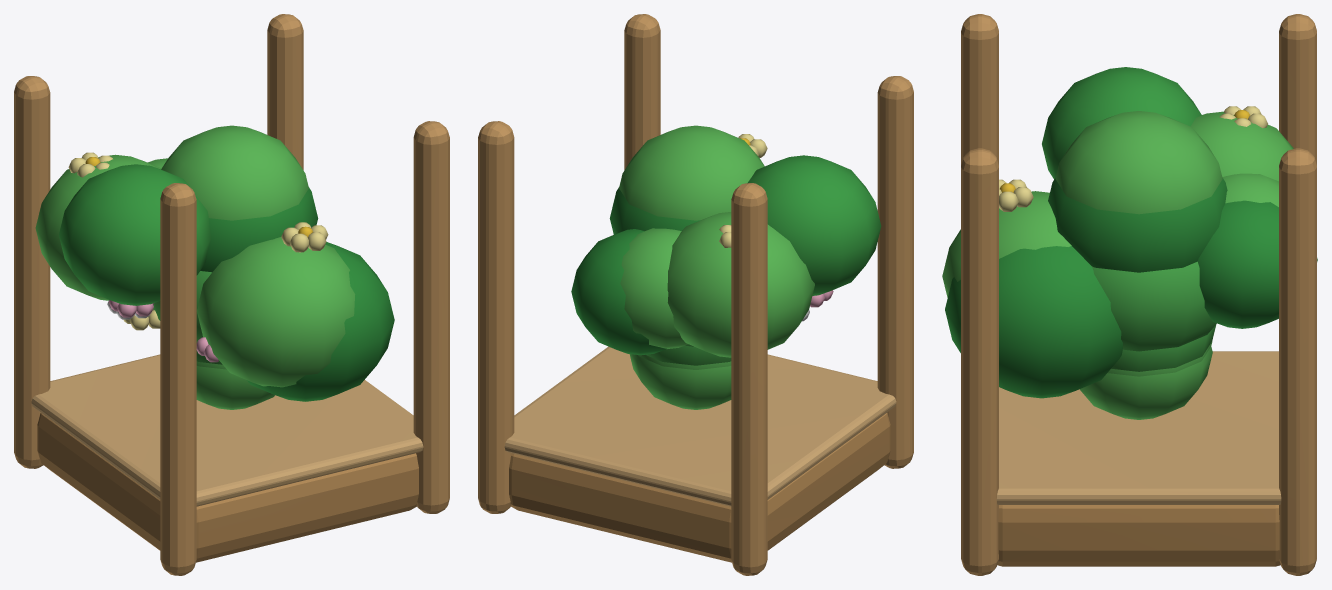
The model's file is gym_wall_forest_lite.glb.
3 renders of one model, left to right at view 1: azimuth 30°, elevation 25°; view 2: azimuth 150°, elevation 25°; view 3: azimuth 270°, elevation 25°, orthographic. The views are drawn at different scales.
Visible parts, largest first — view 1: Cube; view 2: Cube; view 3: Cube.
Part boxes in pixels (x1,y1,x2,y2): Cube: (14,14,449,575); Cube: (478,14,913,575); Cube: (942,14,1317,575).
Bounding box in the file's own units: 2.26 × 2.7 × 2.17.
